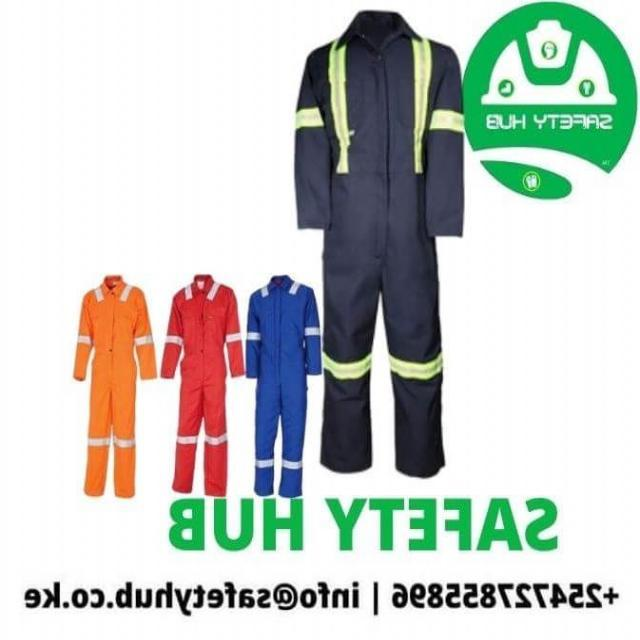reflective_jacket: (282, 9, 471, 192), (246, 280, 326, 389), (164, 277, 243, 381), (80, 281, 157, 385)
